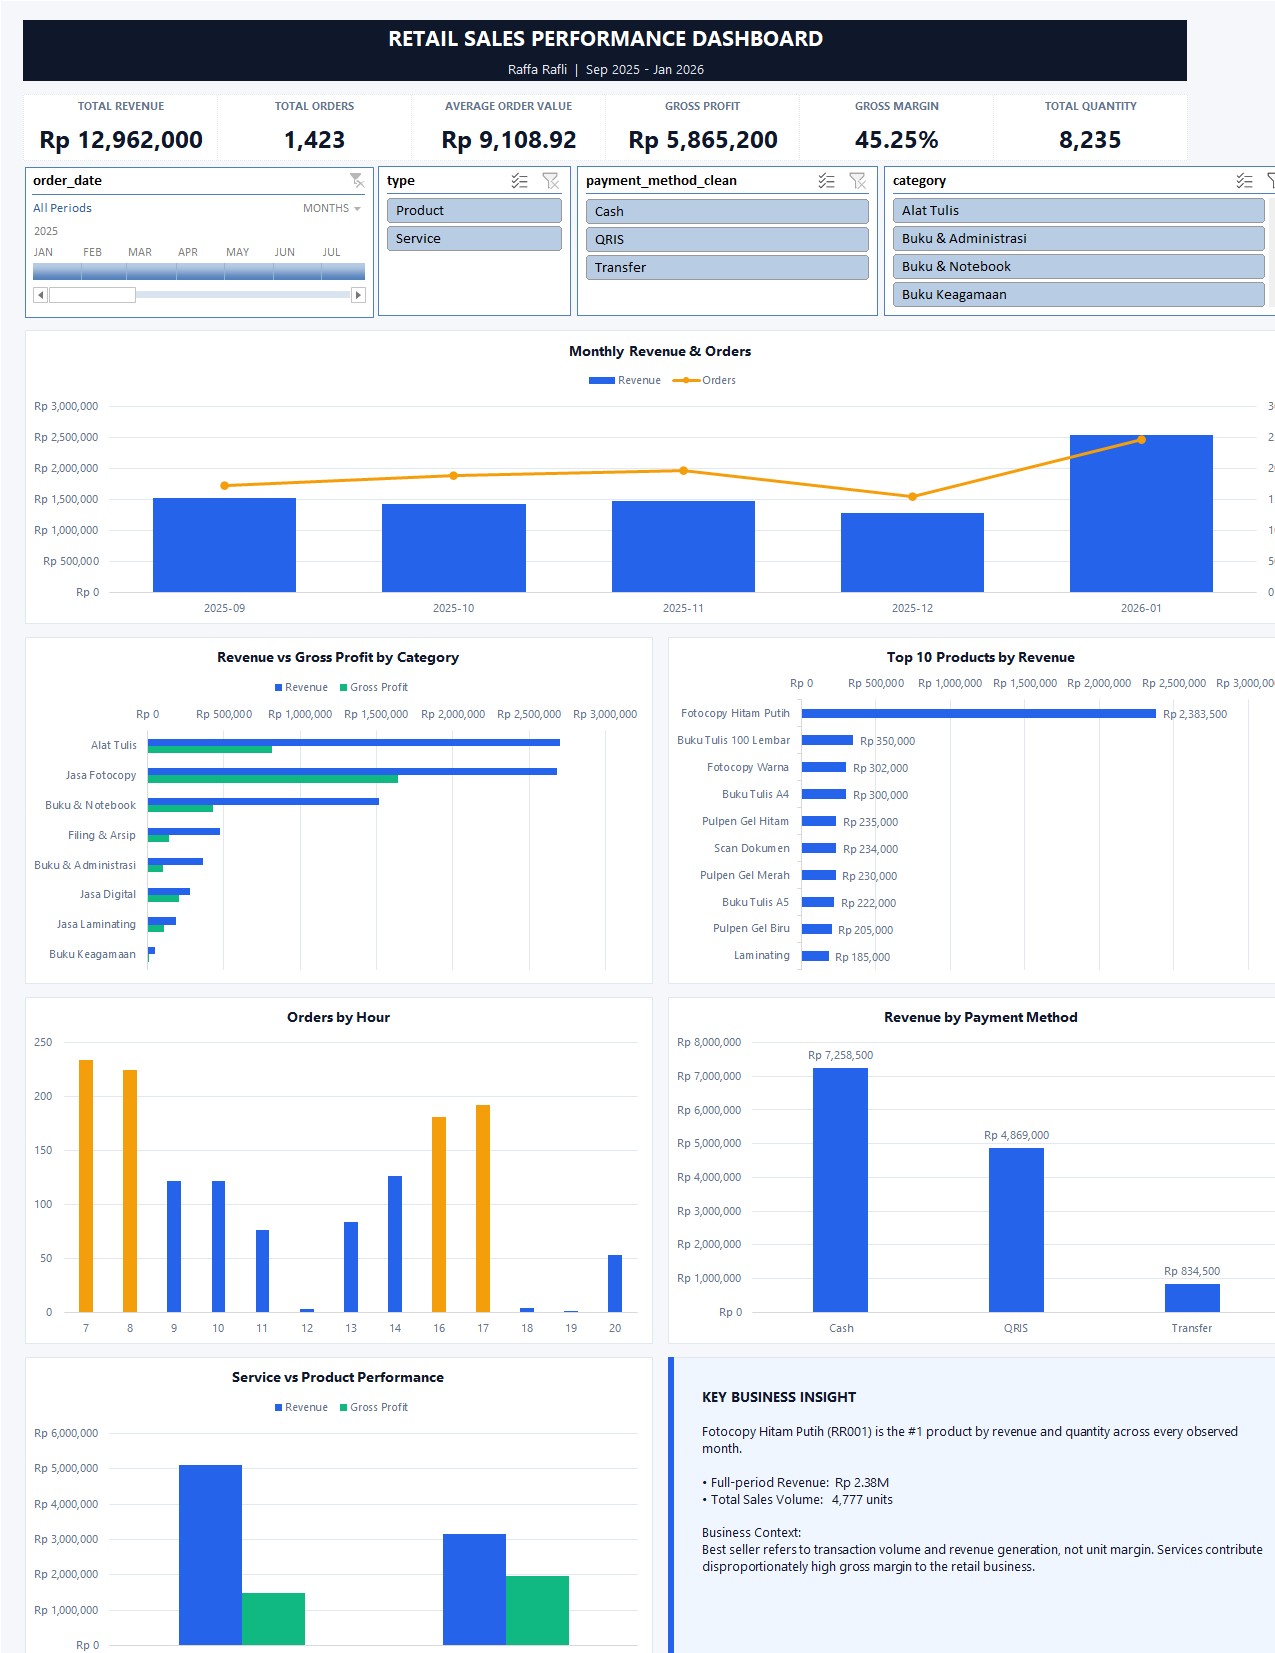

What the dashboard file says about the page in this screenshot:
{"tool":"powerbi","page":{"name":"01 Executive Overview","canvas":[1920,1080],"ordinal":0},"visuals":[{"type":"slicer","fields":{"Values":["DimDate.Date"]},"box":[0,0,574.9,179],"z":0},{"type":"slicer","fields":{"Values":["DimProduct.category"]},"box":[0,110,575,105],"z":1000},{"type":"slicer","fields":{"Values":["DimProduct.type"]},"box":[0,196,576,92],"z":2000},{"type":"slicer","fields":{"Values":["DimPaymentMethod.Payment Method"]},"box":[0,288,576,80],"z":3000},{"type":"cardVisual","fields":{"Data":["FactTransactions.Total Revenue"]},"box":[0,368,576,150],"z":4000},{"type":"cardVisual","fields":{"Data":["FactTransactions.Total Orders"]},"box":[0,518,576,150],"z":5000},{"type":"cardVisual","fields":{"Data":["FactTransactions.Average Order Value"]},"box":[0,668,576,150],"z":6000},{"type":"cardVisual","fields":{"Data":["FactSalesLines.Gross Profit"]},"box":[0,818,576,150],"z":7000},{"type":"cardVisual","fields":{"Data":["FactSalesLines.Gross Margin %"]},"box":[585,0,575,179],"z":8000},{"type":"lineClusteredColumnComboChart","fields":{"Category":["DimDate.Year-Month"],"Y":["FactTransactions.Total Revenue"],"Y2":["FactTransactions.Total Orders"]},"box":[586,178,575,150],"z":8001},{"type":"tableEx","fields":{"Values":["FactSalesLines.year_month","FactTransactions.Total Revenue","FactTransactions.Total Orders","FactTransactions.Average Order Value","FactTransactions.MoM Revenue Change %"]},"box":[585.7,328.6,647.1,244.3],"z":8002},{"type":"columnChart","fields":{"Category":["DimProduct.category"],"Y":["FactSalesLines.Product Revenue"]},"box":[585.7,572.9,647,150],"z":8003},{"type":"columnChart","fields":{"Category":["DimProduct.product_name"],"Y":["FactSalesLines.Product Revenue"]},"box":[585.7,722.9,647,150],"z":8004},{"type":"columnChart","fields":{"Category":["DimPaymentMethod.Payment Method"],"Y":["FactTransactions.Total Revenue"]},"box":[586,873,647,150],"z":8005}]}

Visuals, with their boxes on the page's 1920x1080 design canvas (x1, y1, x2, y2). These are canvas units, not pixel positions in the 1275x1653 screenshot, which may show the page scaled, cropped or inside an application window:
slicer - DimDate.Date: Rect(0, 0, 575, 179)
slicer - DimProduct.category: Rect(0, 110, 575, 215)
slicer - DimProduct.type: Rect(0, 196, 576, 288)
slicer - DimPaymentMethod.Payment Method: Rect(0, 288, 576, 368)
cardVisual - FactTransactions.Total Revenue: Rect(0, 368, 576, 518)
cardVisual - FactTransactions.Total Orders: Rect(0, 518, 576, 668)
cardVisual - FactTransactions.Average Order Value: Rect(0, 668, 576, 818)
cardVisual - FactSalesLines.Gross Profit: Rect(0, 818, 576, 968)
cardVisual - FactSalesLines.Gross Margin %: Rect(585, 0, 1160, 179)
lineClusteredColumnComboChart - DimDate.Year-Month x FactTransactions.Total Revenue: Rect(586, 178, 1161, 328)
tableEx - FactSalesLines.year_month x FactTransactions.Total Revenue: Rect(586, 329, 1233, 573)
columnChart - DimProduct.category x FactSalesLines.Product Revenue: Rect(586, 573, 1233, 723)
columnChart - DimProduct.product_name x FactSalesLines.Product Revenue: Rect(586, 723, 1233, 873)
columnChart - DimPaymentMethod.Payment Method x FactTransactions.Total Revenue: Rect(586, 873, 1233, 1023)
